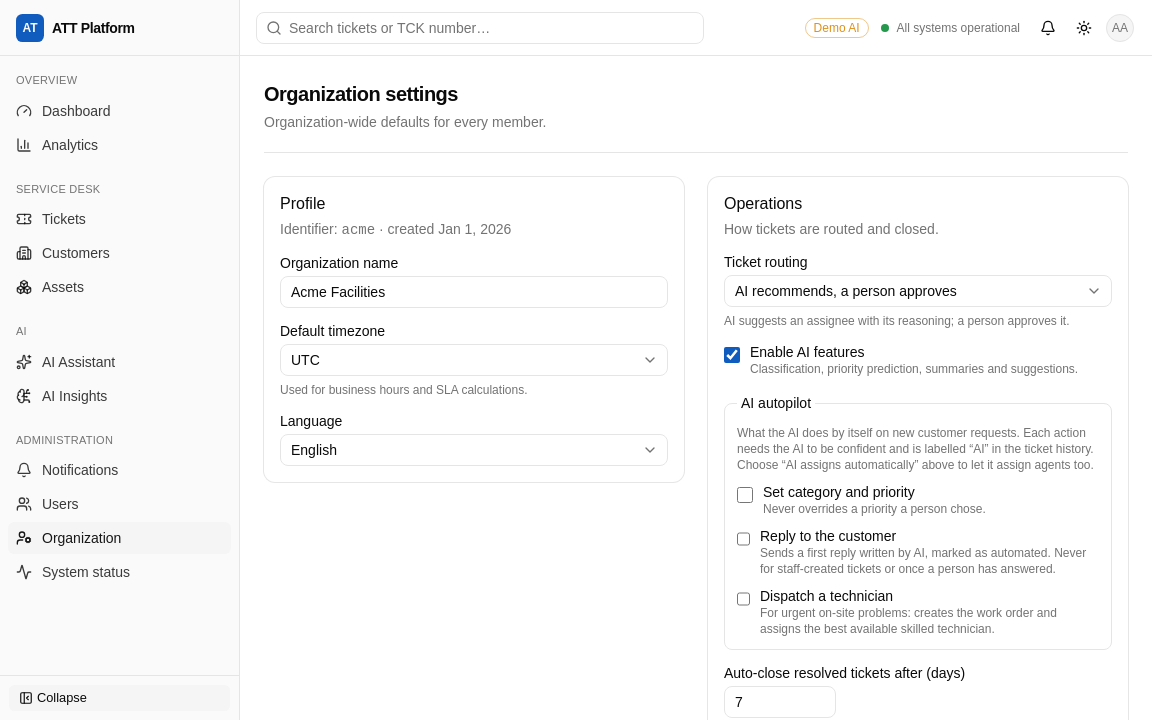
Organization settings › validates the auto-close window
Step 1. Replace the text in the number field labelled "Auto-close resolved tickets after (days)" with "120" → [780, 702], box [724,686,836,718]
(page scrolled)
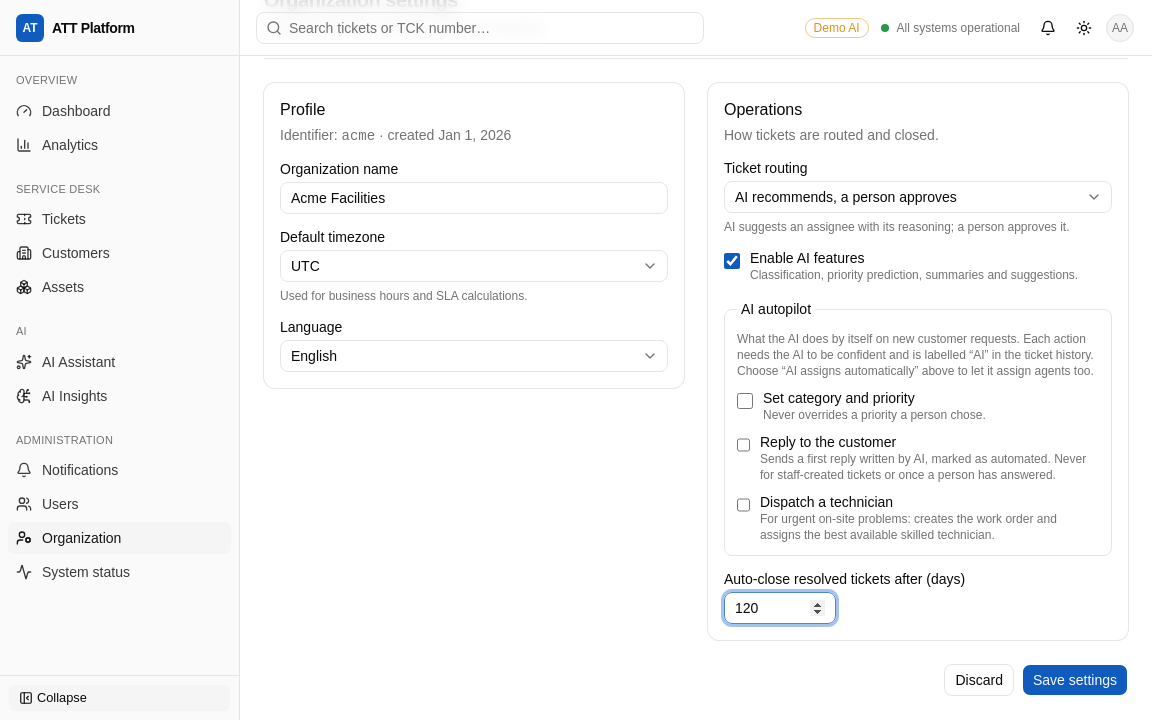
Step 2. Click the button "Save settings" → [1075, 680], box [1022,664,1128,696]
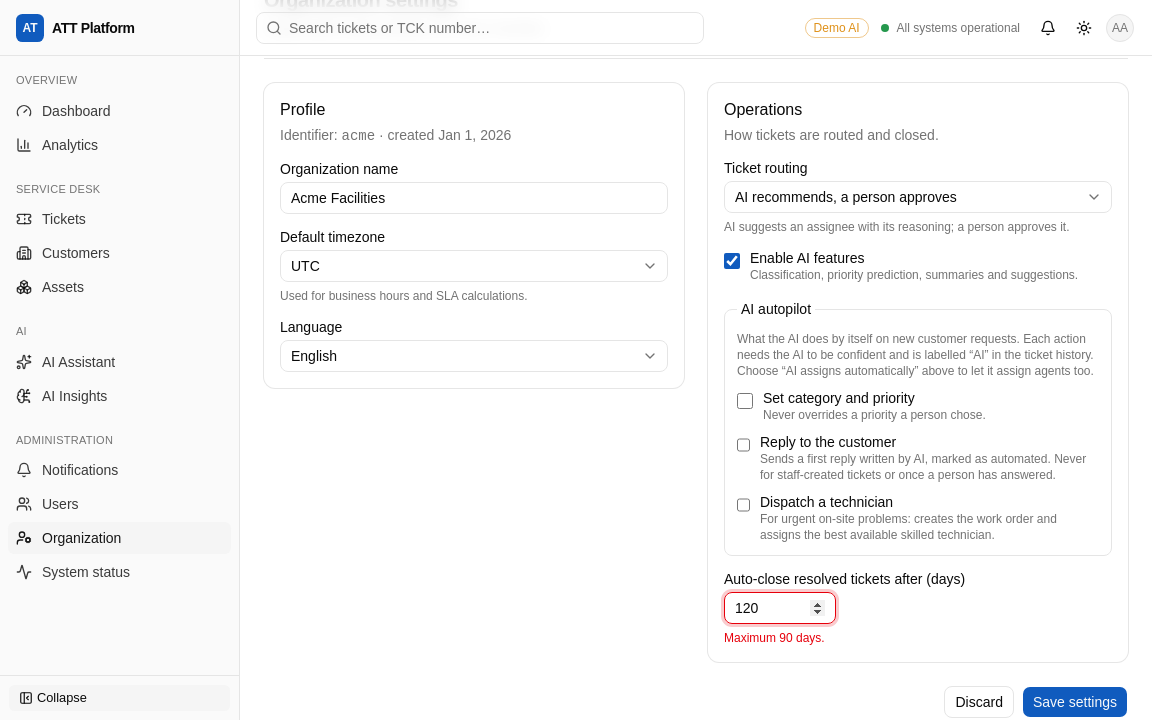
Expected: the text "Maximum 90 days." is shown, [724,631,825,645]
